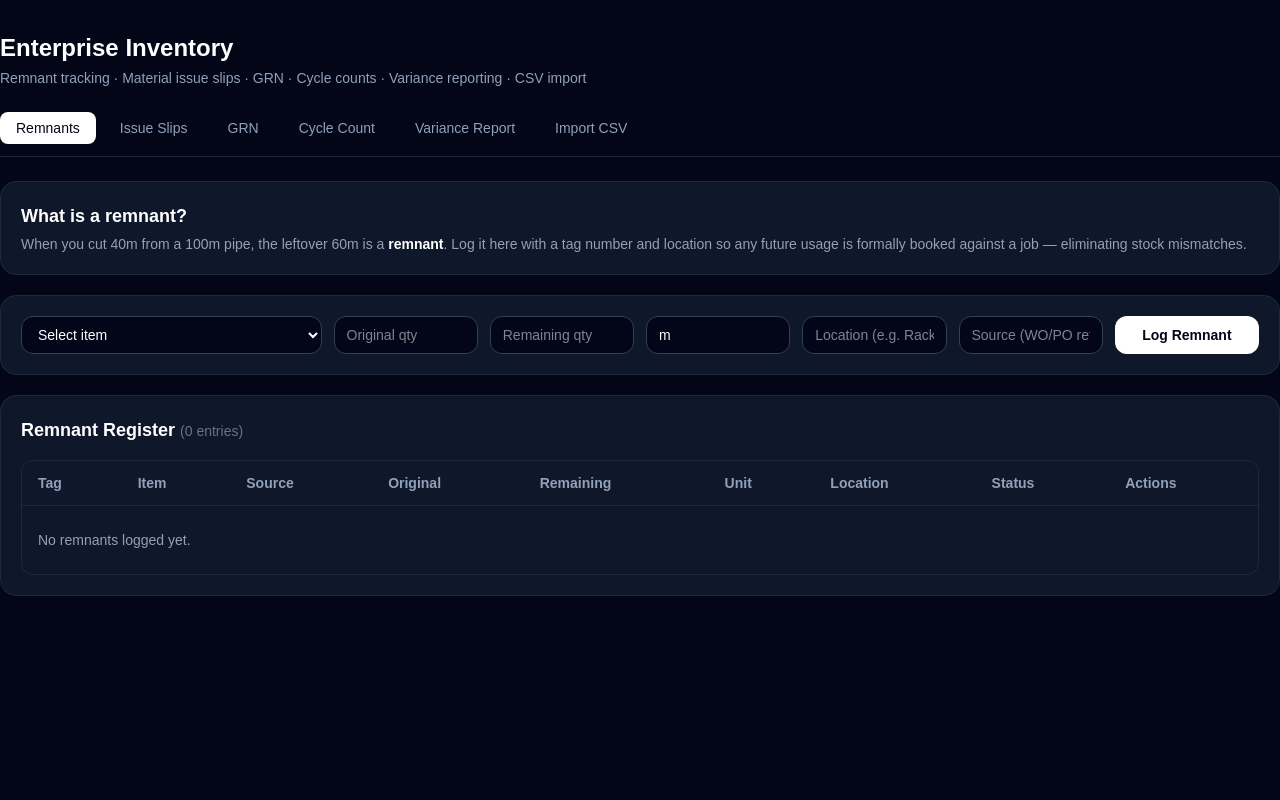
Test: EnterpriseInventory CSV import — a refusal is not a success › CONTROL: a 200 with counts still renders the success panel
Click the button "Import CSV". click: (591, 128)
box: [539,112,643,144]
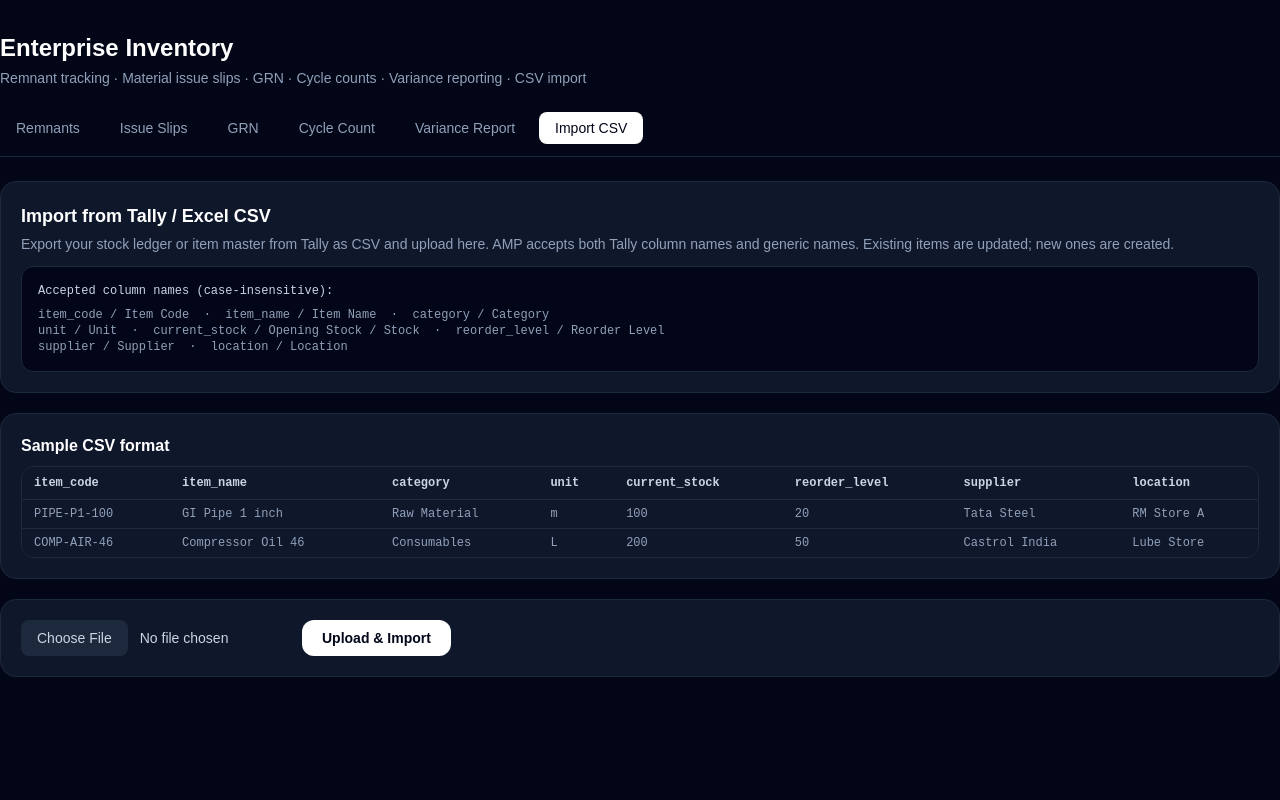
Submit the form, box [0,599,1279,677]
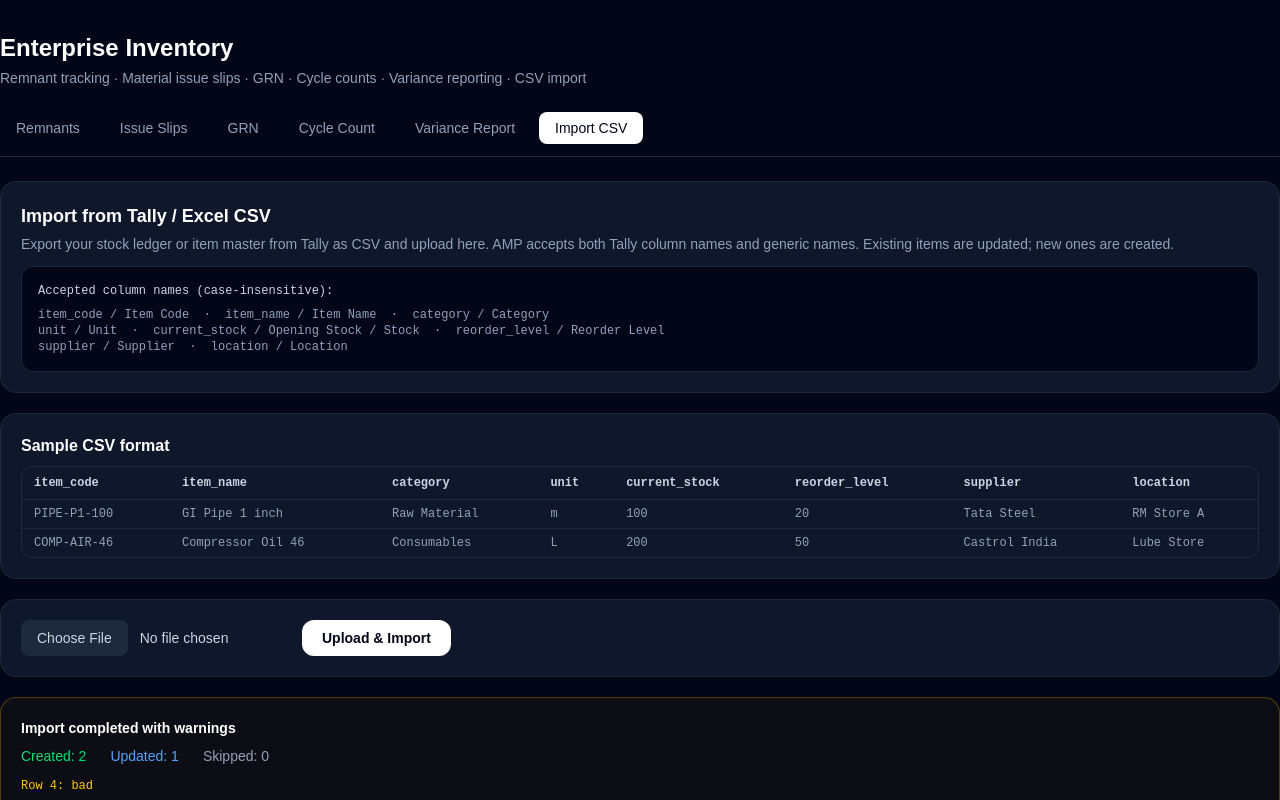
Now the text "Import completed with warnings" is shown, box [21,720,236,736]
Now the text "Created: 2" is shown, box [21,746,86,766]
